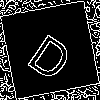D: (25, 25, 80, 84)
